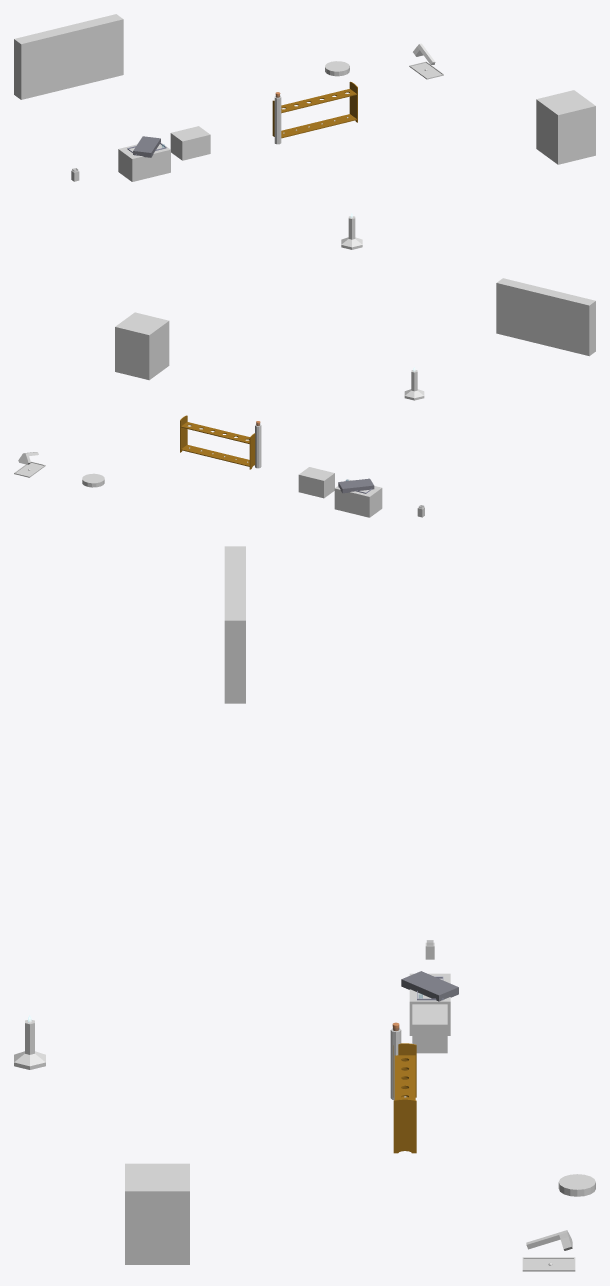
Rendered from labObjectsSet2.glb.
The picture shows the model from 3 angles, top to bottom: view 1: azimuth 30°, elevation 25°; view 2: azimuth 150°, elevation 25°; view 3: azimuth 270°, elevation 25°; orthographic projection. The views are drawn at different scales.
Visible parts, largest first — view 1: hitSurface (×7), Cube.001, Cube, lid, spatulaTray; view 2: hitSurface (×5), Cube.001, Cube, lid; view 3: hitSurface (×3), surface.002, lid, Cube.
Boxes of the visible parts, x1,y1,x2,y2 form: hitSurface (×7): (14,14,595,249); Cube.001: (281,114,356,138); Cube: (281,89,356,113); lid: (133,136,160,157); spatulaTray: (409,61,443,79); hitSurface (×5): (115,278,595,517); Cube.001: (181,444,249,466); Cube: (181,422,249,443); lid: (338,478,374,493); hitSurface (×3): (125,546,447,1264); surface.002: (393,1099,416,1153); lid: (401,971,458,1001); Cube: (394,1055,415,1100).
Size of what is drawn, in the model's own units: 2.66 by 1.1 by 1.66.
